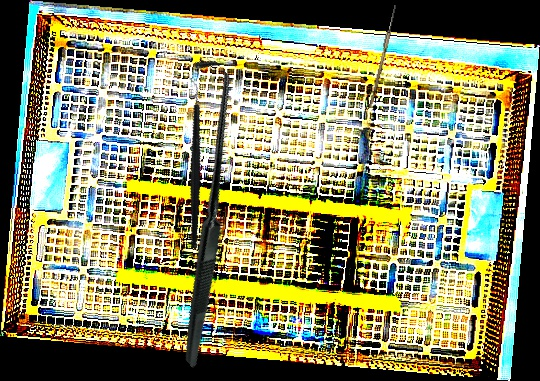Chopper: (129, 74, 255, 250)
Hook Surgical: (41, 51, 359, 369)
Surgical Spoon: (368, 4, 398, 109)
